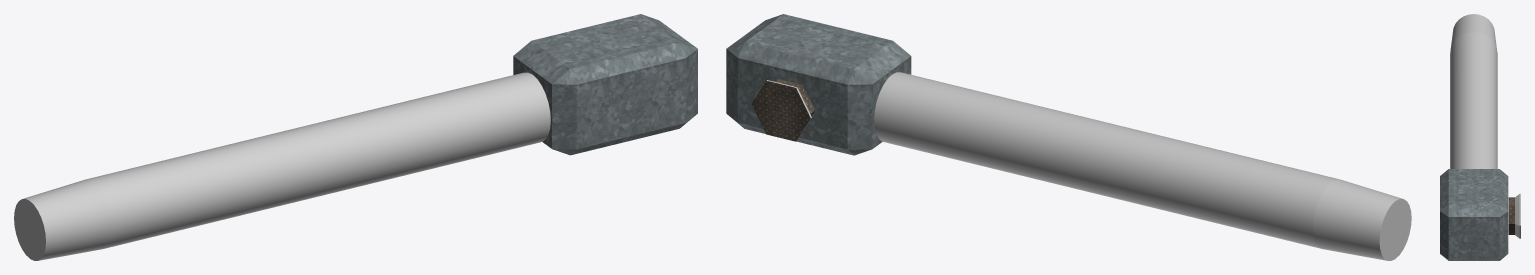
Rendered from KineticGun 1.fbx.
3 renders of one model, left to right at view 1: azimuth 30°, elevation 25°; view 2: azimuth 150°, elevation 25°; view 3: azimuth 270°, elevation 25°, orthographic. The views are drawn at different scales.
Visible parts, largest first — view 1: mergedBlocks; view 2: mergedBlocks; view 3: mergedBlocks.
Boxes of the visible parts, x1,y1,x2,y2 form: mergedBlocks: (14, 14, 697, 260); mergedBlocks: (726, 14, 1411, 260); mergedBlocks: (1440, 14, 1520, 260).
Size of the model in its own units: 96.9 by 12.32 by 15.89.
